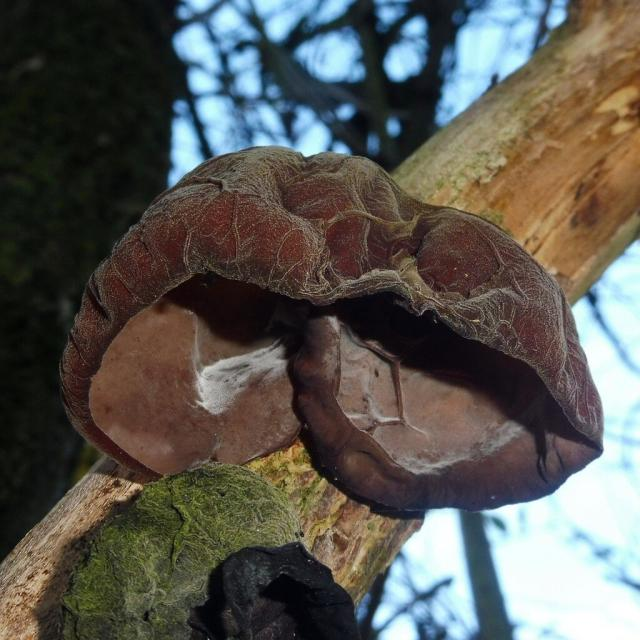Matang: (50, 141, 614, 521)
